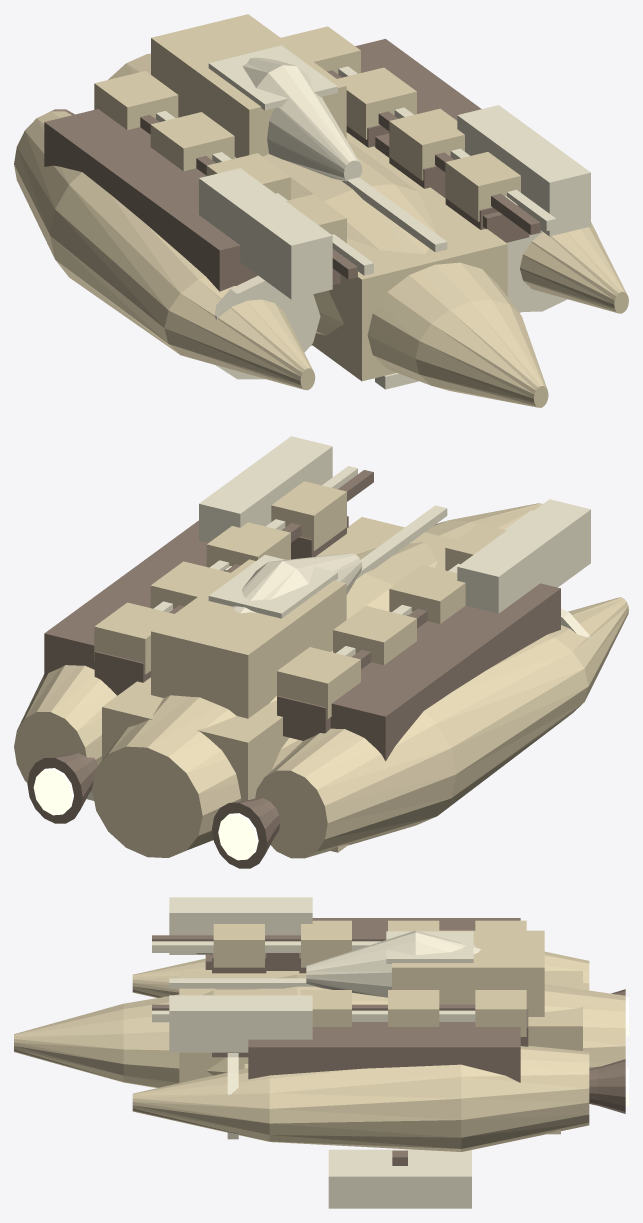
3 renders of one model, top to bottom at view 1: azimuth 30°, elevation 25°; view 2: azimuth 150°, elevation 25°; view 3: azimuth 270°, elevation 25°, orthographic. The views are drawn at different scales.
Size of the model in its own units: 14.05 by 7.88 by 22.55.
